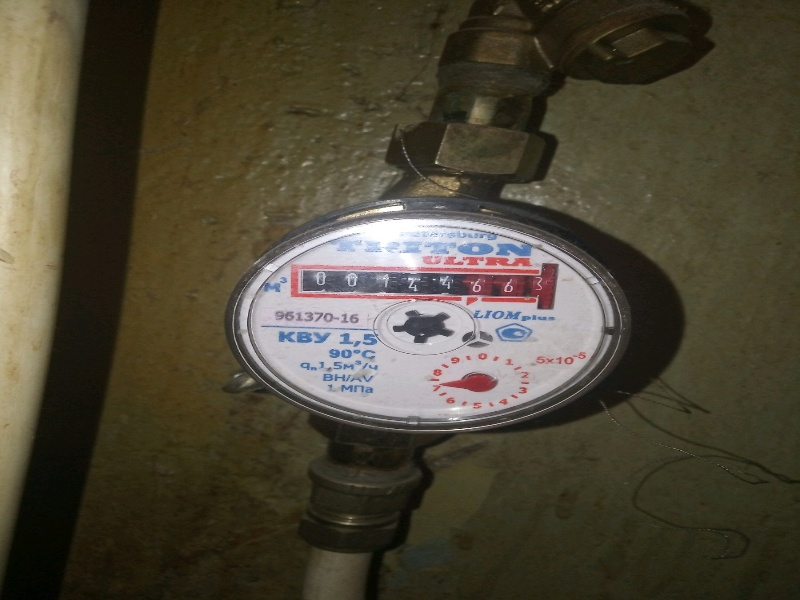meter: (292, 263, 546, 306)
